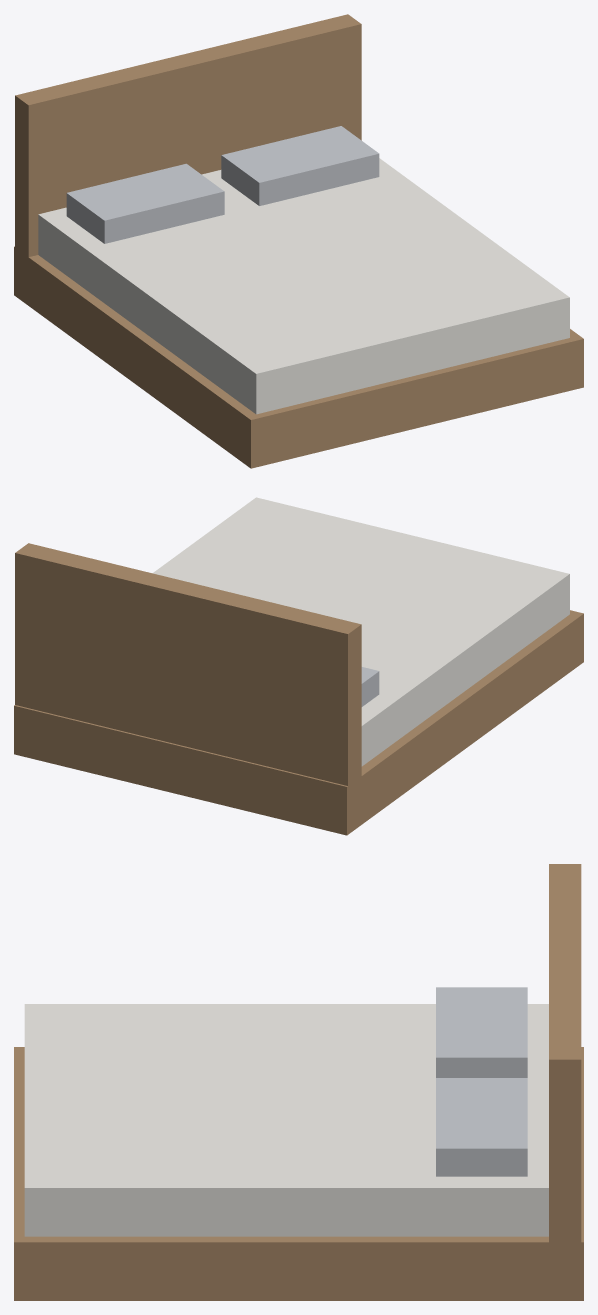
3 views of the same model, one above another, from view 1: azimuth 30°, elevation 25°; view 2: azimuth 150°, elevation 25°; view 3: azimuth 270°, elevation 25° (orthographic). The views are drawn at different scales.
Visible parts, largest first — view 1: Mattress, Headboard, Frame, Pillow.L, Pillow.R; view 2: Headboard, Mattress, Frame, Pillow.L; view 3: Mattress, Frame, Headboard, Pillow.R, Pillow.L.
Part boxes in pixels (box(x1,y1,x2,y2)): Mattress: box(38, 158, 569, 414); Headboard: box(15, 14, 361, 262); Frame: box(14, 246, 583, 468); Pillow.L: box(66, 163, 224, 243); Pillow.R: box(221, 126, 379, 205); Headboard: box(15, 543, 361, 785); Mattress: box(153, 497, 569, 766); Frame: box(14, 610, 583, 835); Pillow.L: box(361, 667, 379, 706); Mattress: box(24, 1004, 548, 1236); Frame: box(14, 1047, 583, 1300); Headboard: box(549, 864, 581, 1249); Pillow.R: box(436, 1078, 527, 1176); Pillow.L: box(436, 987, 527, 1077).
Size of the model in its own units: 1.72 by 0.99 by 2.12.
